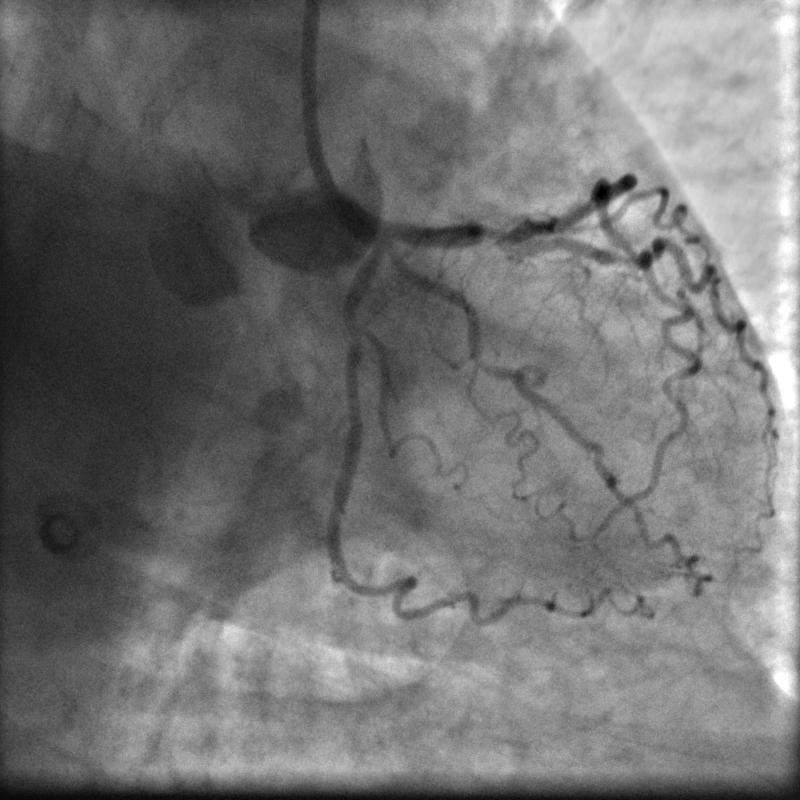Stenosis: (477, 219, 515, 256)
